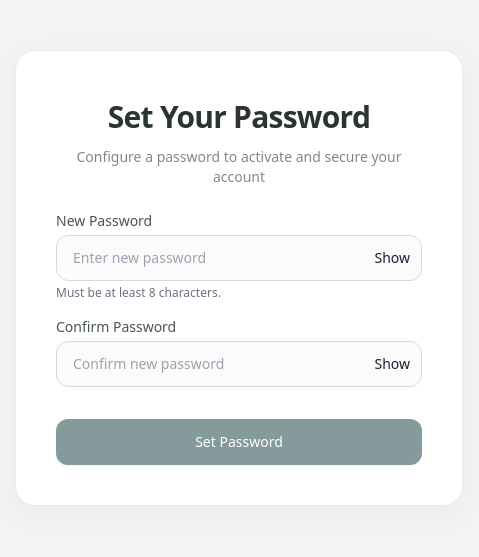
Test case: ResetPasswordConfirmPage › shows API error message when setting password fails
Type "NewPassword123!" into the password field labelled "New Password" at (239, 258), box [56,235,422,281]
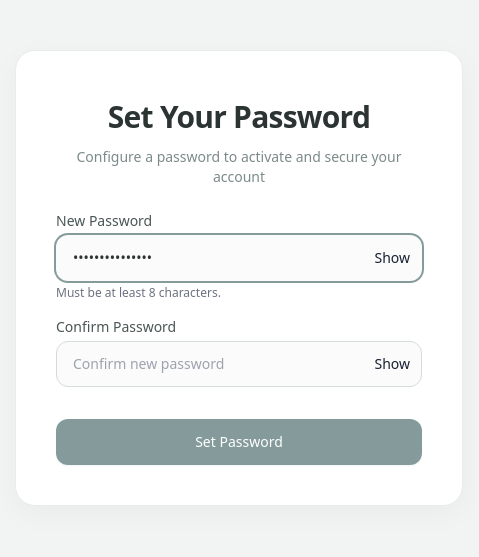
Type "NewPassword123!" into the password field labelled "Confirm Password" at (239, 364), box [56,341,422,387]
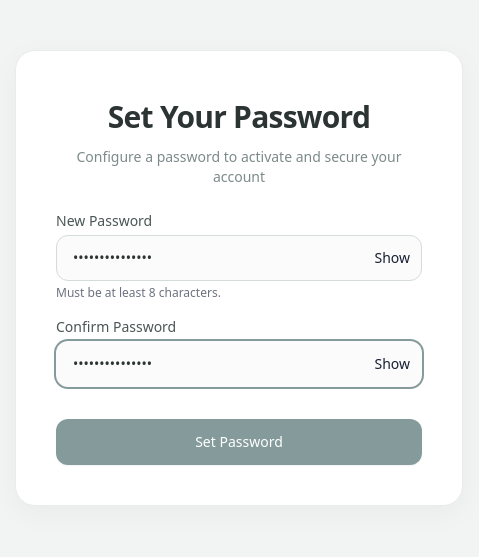
Click the button "Set Password" at (239, 442), box [56,419,422,465]
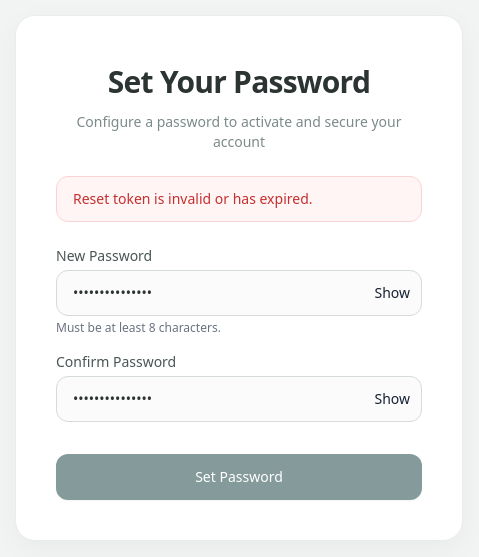
Now the text "Reset token is invalid or has expired." is shown, box [56,176,422,222]
